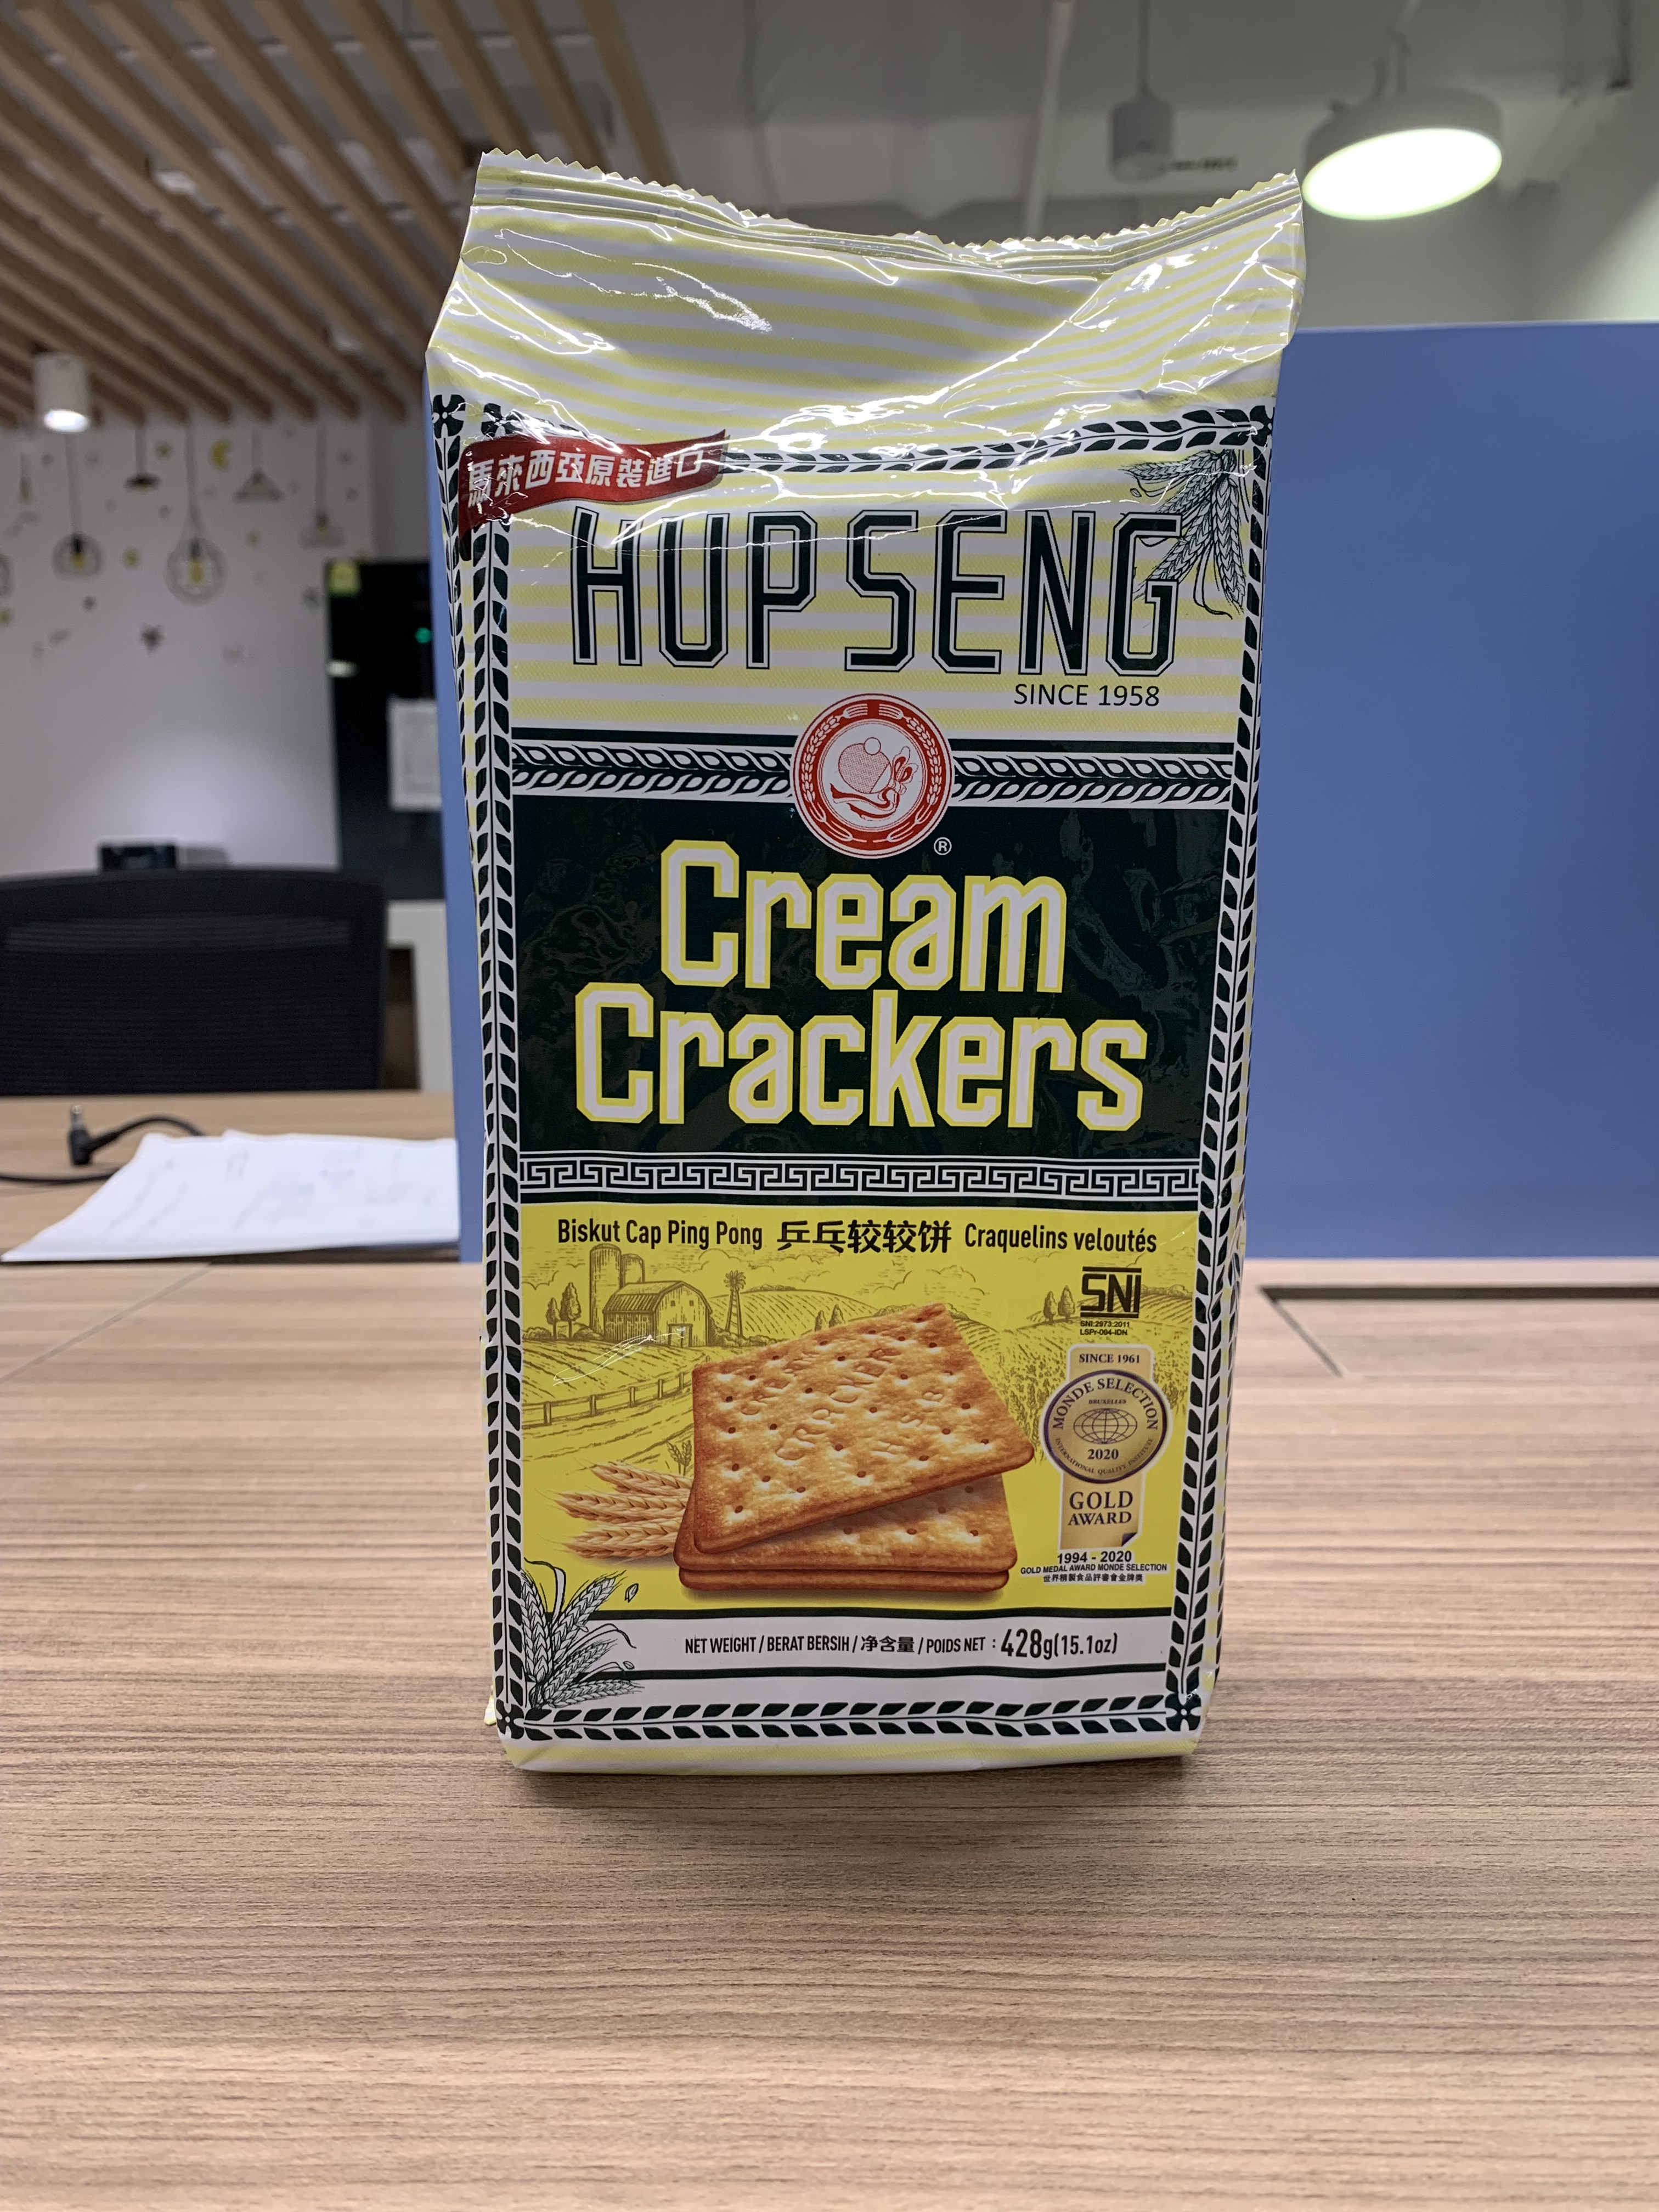crackers: (392, 134, 1337, 1799)
